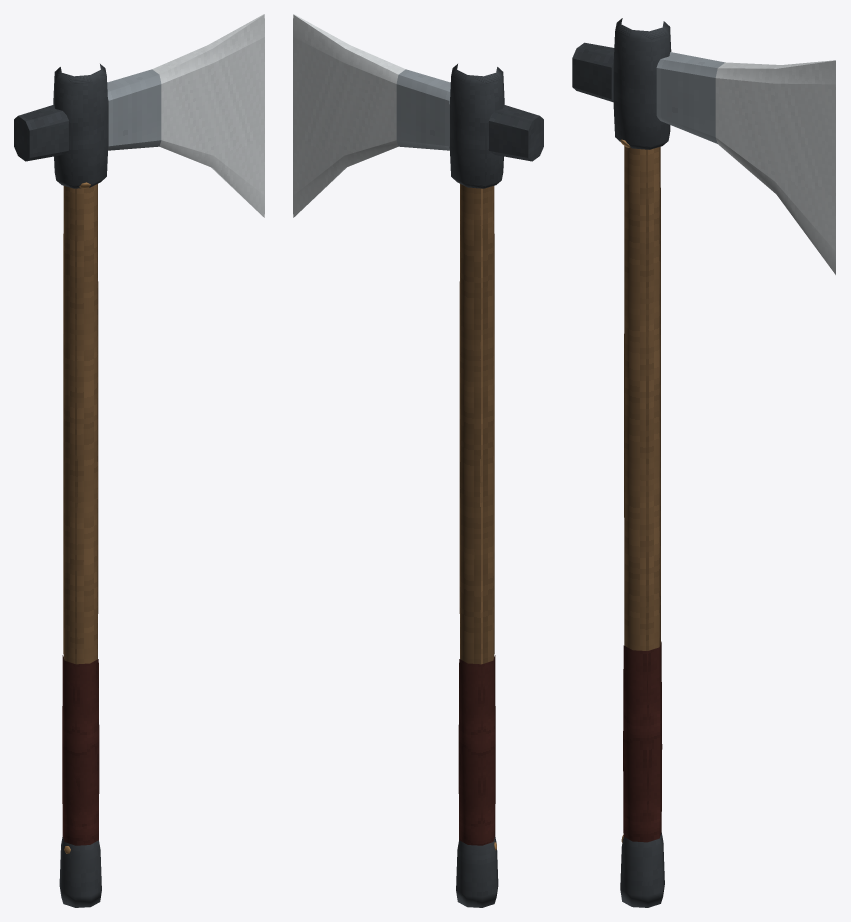
The model's file is war-axe.lod2.glb.
3 renders of one model, left to right at view 1: azimuth 30°, elevation 25°; view 2: azimuth 150°, elevation 25°; view 3: azimuth 330°, elevation 25°, orthographic. The views are drawn at different scales.
Parts seen in each view (by area): view 1: wood / oiled hardwood, edge / honed bright bevel, darksteel / oil-blackened fittings, leather / oiled leather wrap, steel / forged blade steel; view 2: wood / oiled hardwood, edge / honed bright bevel, darksteel / oil-blackened fittings, leather / oiled leather wrap, steel / forged blade steel; view 3: wood / oiled hardwood, edge / honed bright bevel, darksteel / oil-blackened fittings, leather / oiled leather wrap, steel / forged blade steel.
Part boxes in pixels (bbox=[...]): wood / oiled hardwood: bbox=[63, 184, 98, 664]; edge / honed bright bevel: bbox=[152, 14, 264, 217]; darksteel / oil-blackened fittings: bbox=[14, 64, 108, 907]; leather / oiled leather wrap: bbox=[62, 655, 99, 845]; steel / forged blade steel: bbox=[107, 69, 161, 150]; wood / oiled hardwood: bbox=[459, 184, 494, 664]; edge / honed bright bevel: bbox=[293, 14, 405, 217]; darksteel / oil-blackened fittings: bbox=[449, 64, 543, 907]; leather / oiled leather wrap: bbox=[458, 655, 495, 845]; steel / forged blade steel: bbox=[396, 69, 450, 150]; wood / oiled hardwood: bbox=[624, 146, 660, 650]; edge / honed bright bevel: bbox=[715, 60, 835, 274]; darksteel / oil-blackened fittings: bbox=[572, 18, 671, 907]; leather / oiled leather wrap: bbox=[623, 641, 662, 842]; steel / forged blade steel: bbox=[656, 52, 725, 143].
Bounding box in the file's own units: 0.2529 × 0.837 × 0.0469.
Materials: 6 (5 with a texture image).
